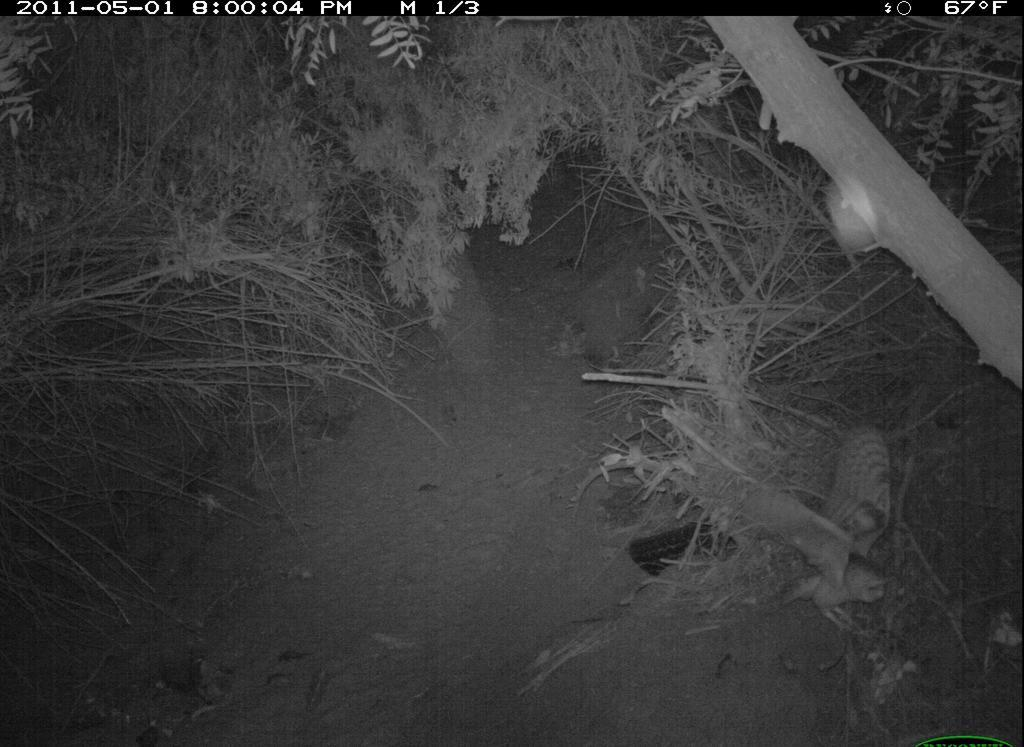bird: (756, 428, 899, 634)
